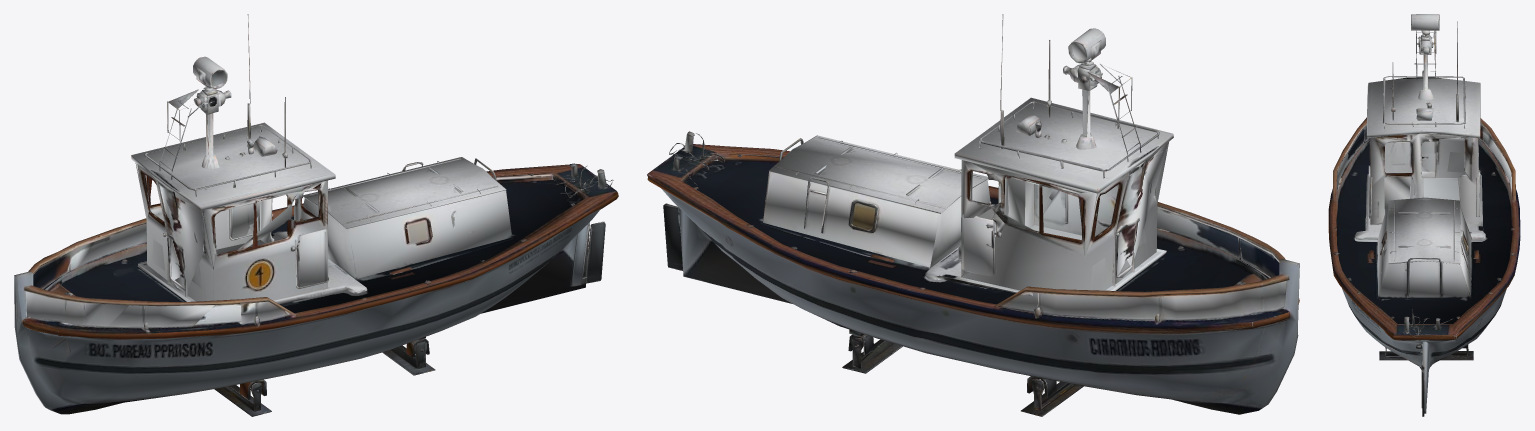
File: patrol_boat.glb
3 renders of one model, left to right at view 1: azimuth 30°, elevation 25°; view 2: azimuth 150°, elevation 25°; view 3: azimuth 270°, elevation 25°, orthographic. The views are drawn at different scales.
Bounding box in the file's own units: 12 × 6.98 × 4.22.
1 material, 1 textured.
